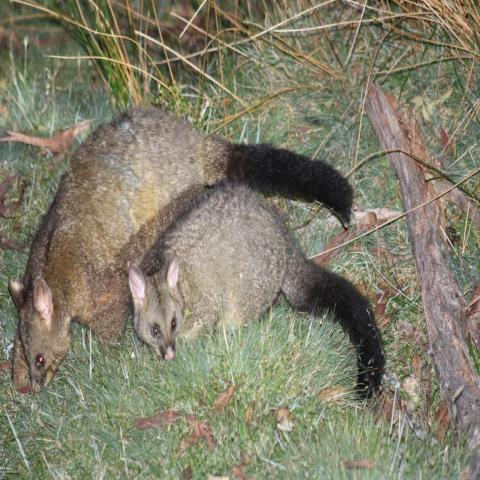small_animal: (8, 96, 356, 396), (126, 176, 393, 404)
